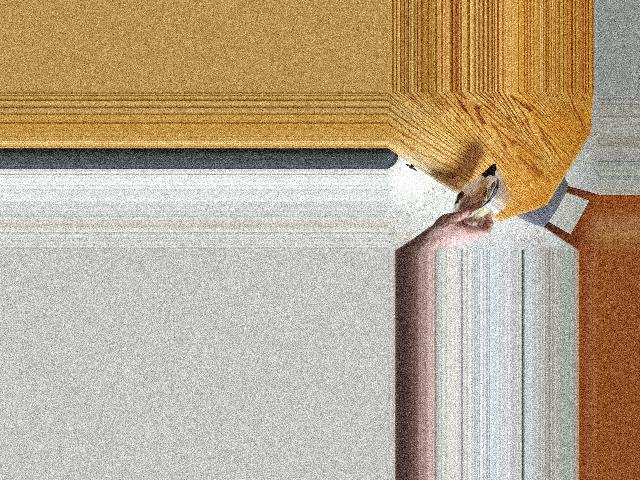cheese: (436, 164, 518, 222)
